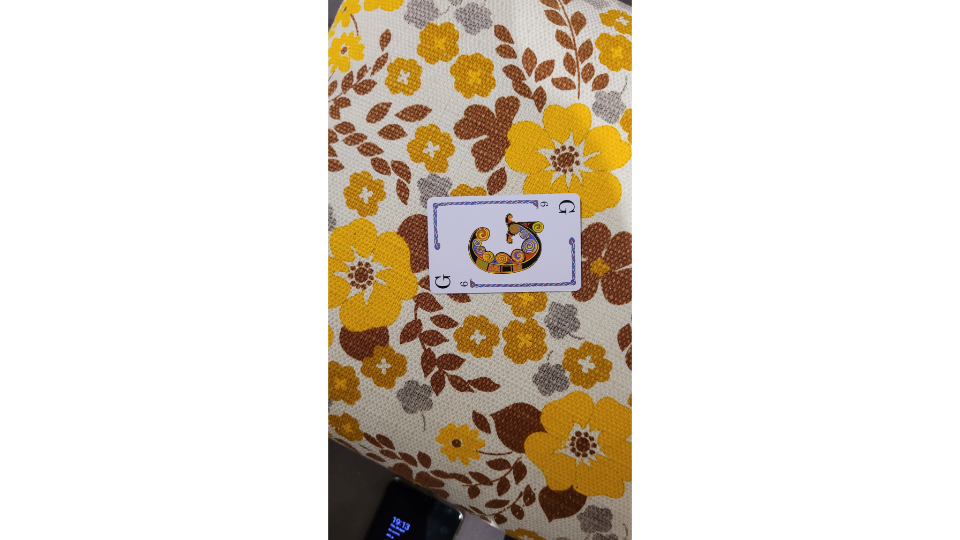G: (425, 191, 585, 294)
